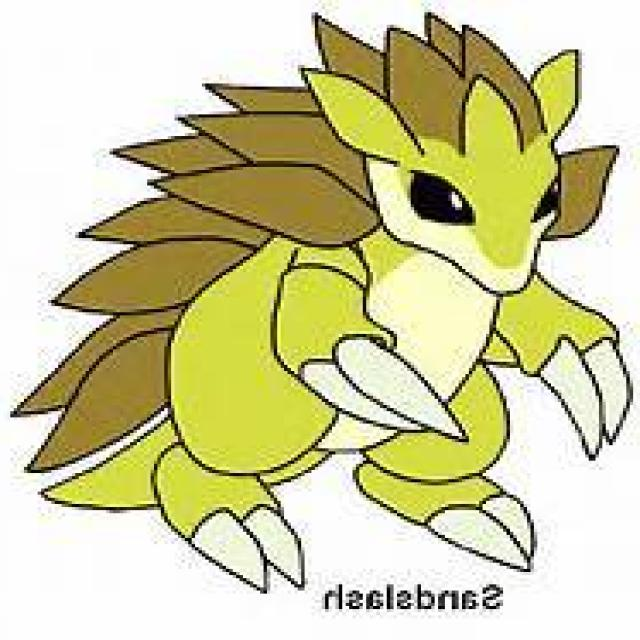Sandslash: (43, 9, 628, 592)
